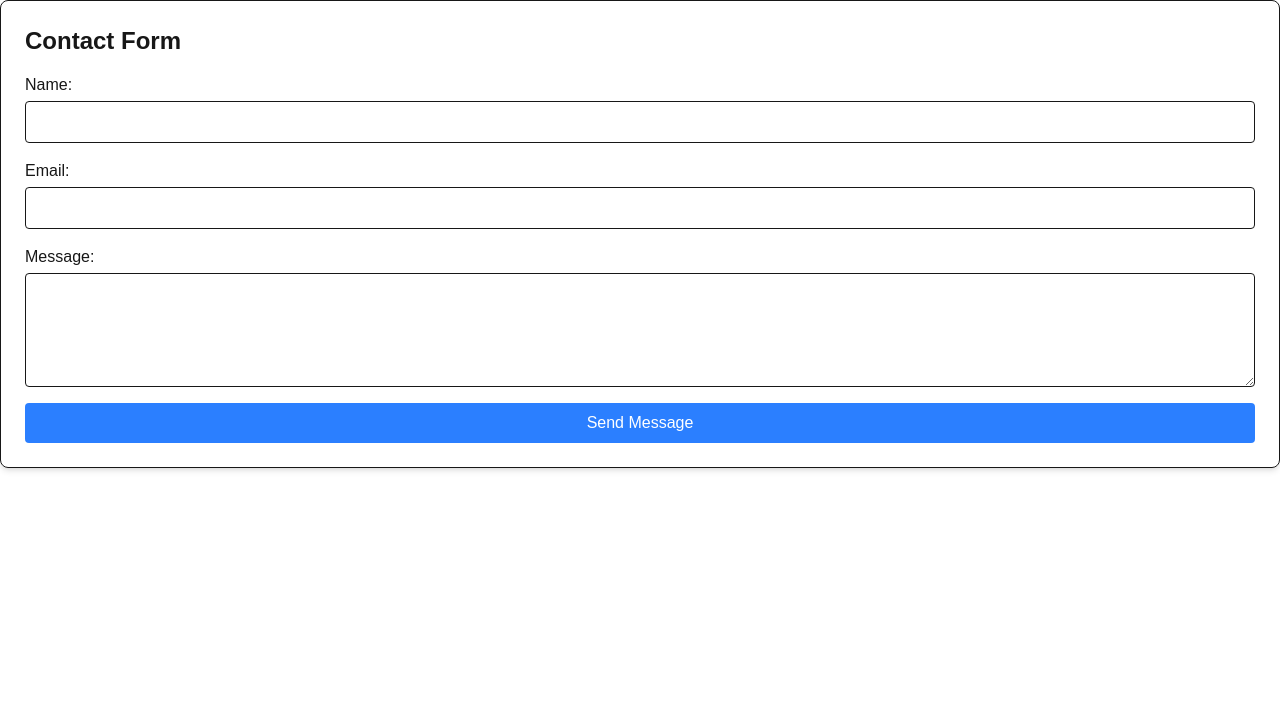
Scenario: ContactForm Component › should show error when email format is invalid
The width and height of the screenshot is (1280, 720).
In the field with test id "name-input": point(640, 122) 25,101 -> 1255,143, type "John"
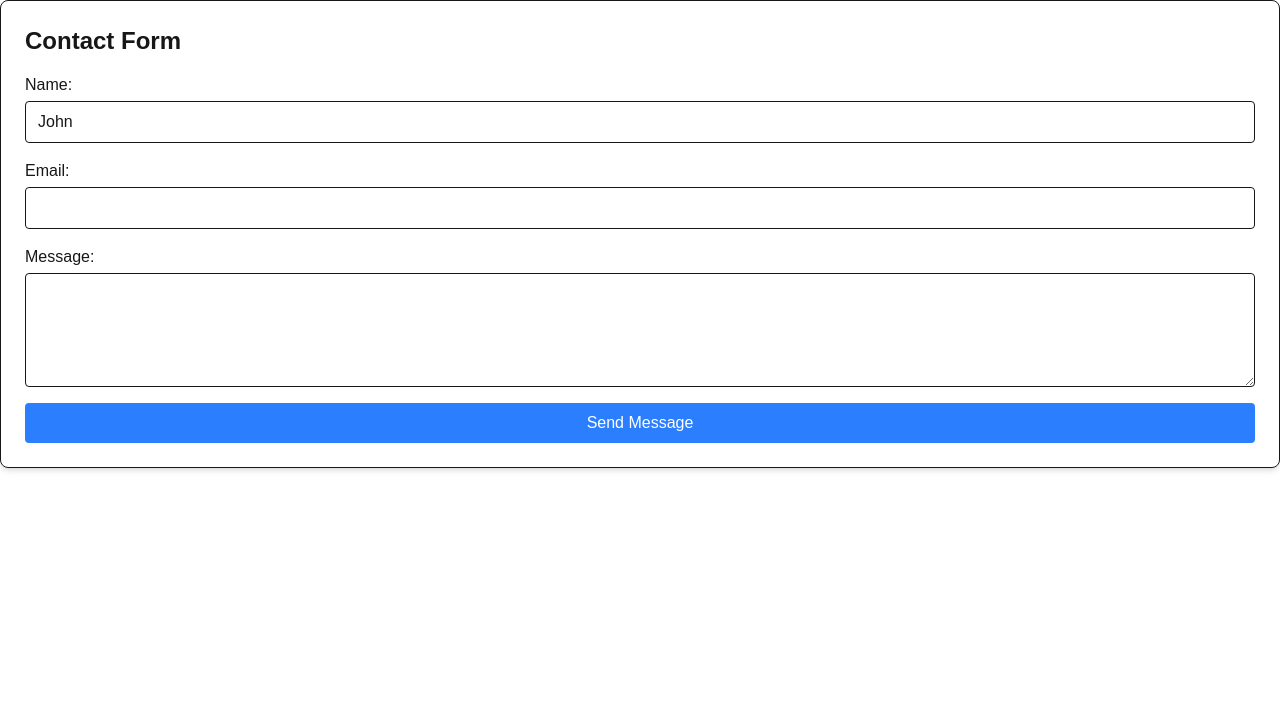
In the field with test id "email-input": point(640, 208) 25,187 -> 1255,229, type "invalid-email"
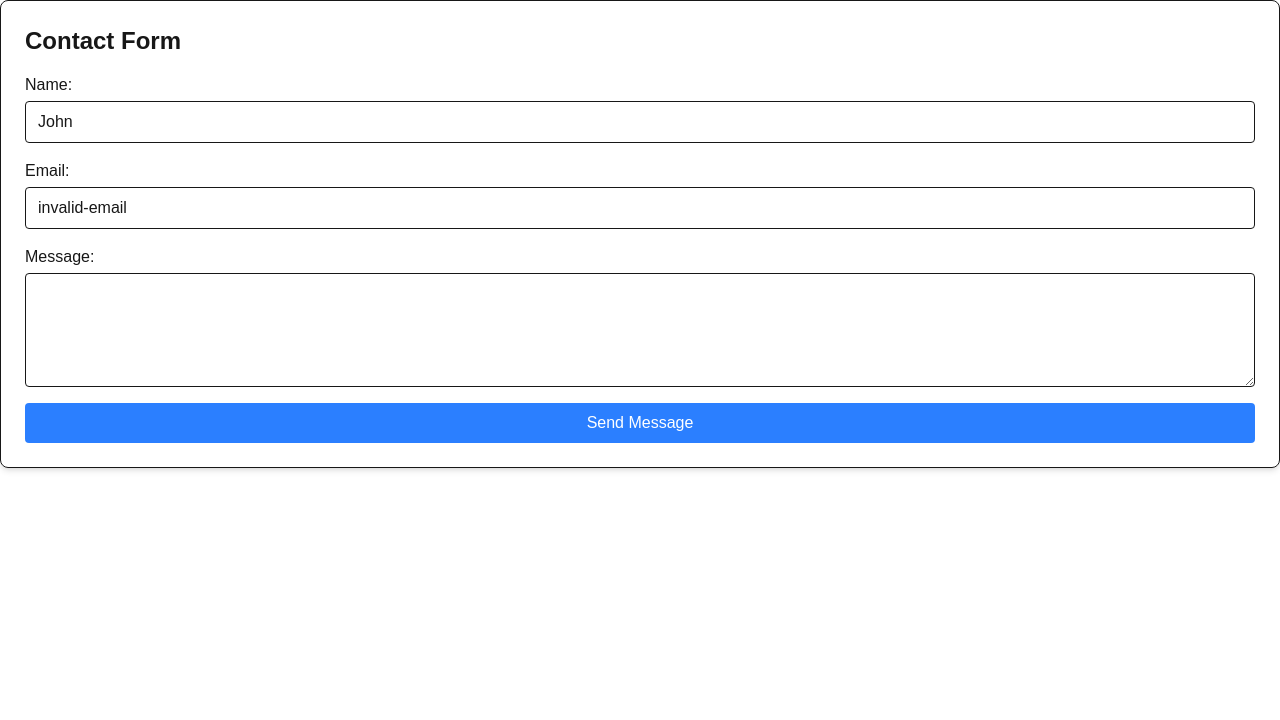
In the text box with test id "message-input": point(640, 330) 25,273 -> 1255,387, type "Some message"
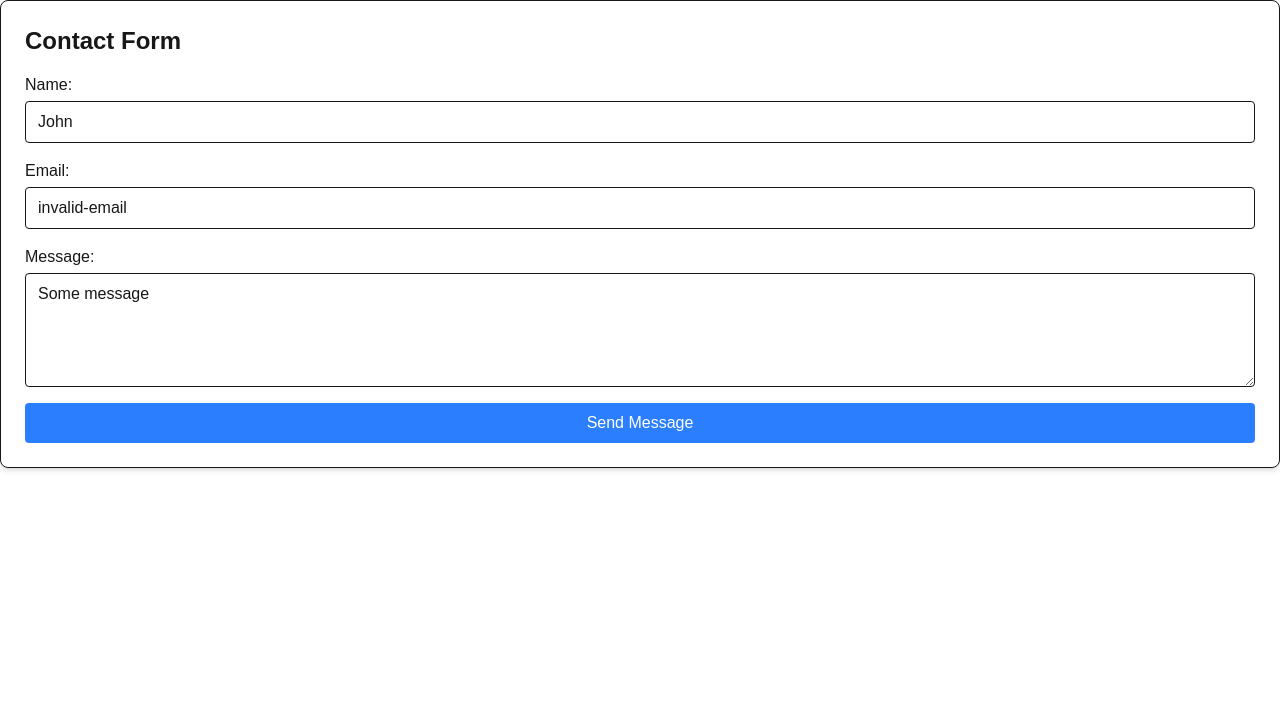
Click the button with test id "submit-button": point(640, 423) 25,403 -> 1255,443
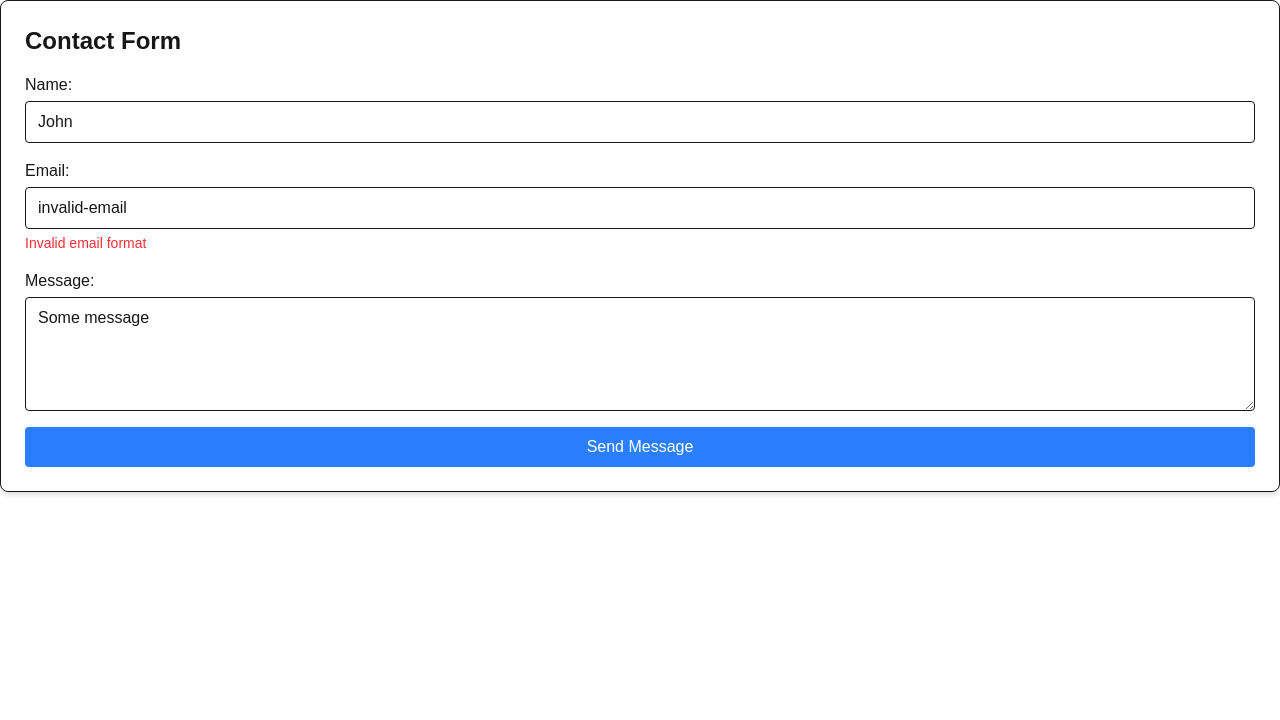
expect the text with test id "email-error" reads "Invalid email format": met, box 25,235 -> 146,251
